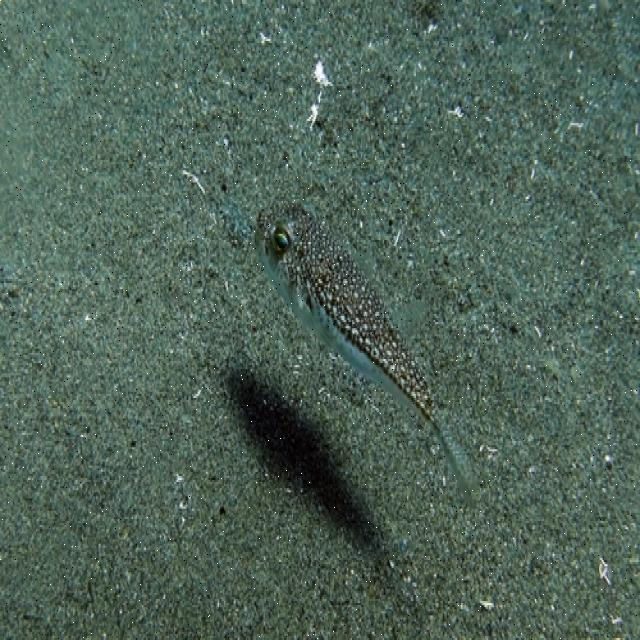Balik: (255, 208, 474, 502)
